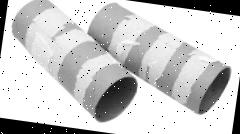paper: (78, 0, 238, 119), (0, 0, 147, 126)
